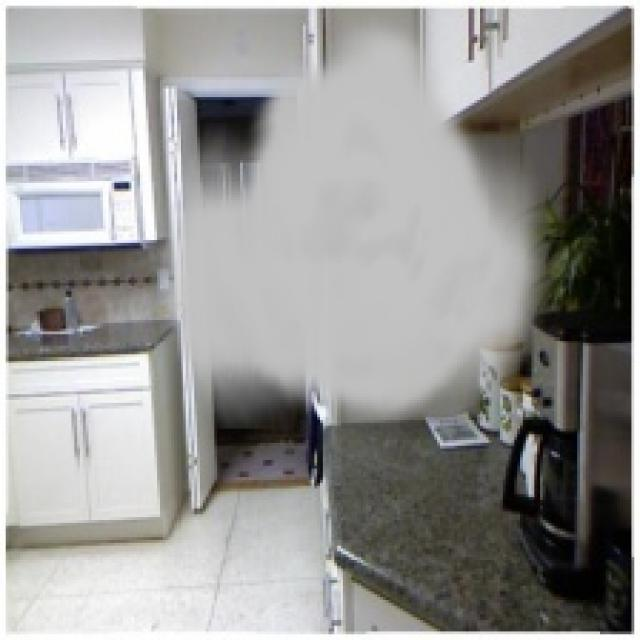Smoke: (160, 14, 554, 429)
